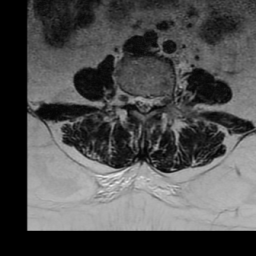CCS_stenosis: (140, 88, 147, 122)
LFS_normal: (155, 87, 163, 113)
LLS_normal: (147, 87, 155, 118)
RFS_normal: (125, 84, 133, 111)
RLS_normal: (133, 88, 140, 116)
